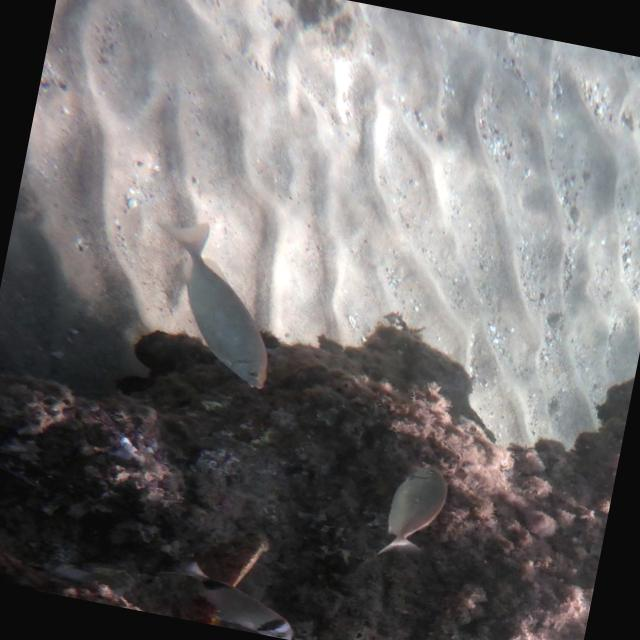Sokar Baligi: (112, 208, 306, 398), (366, 451, 464, 570)
